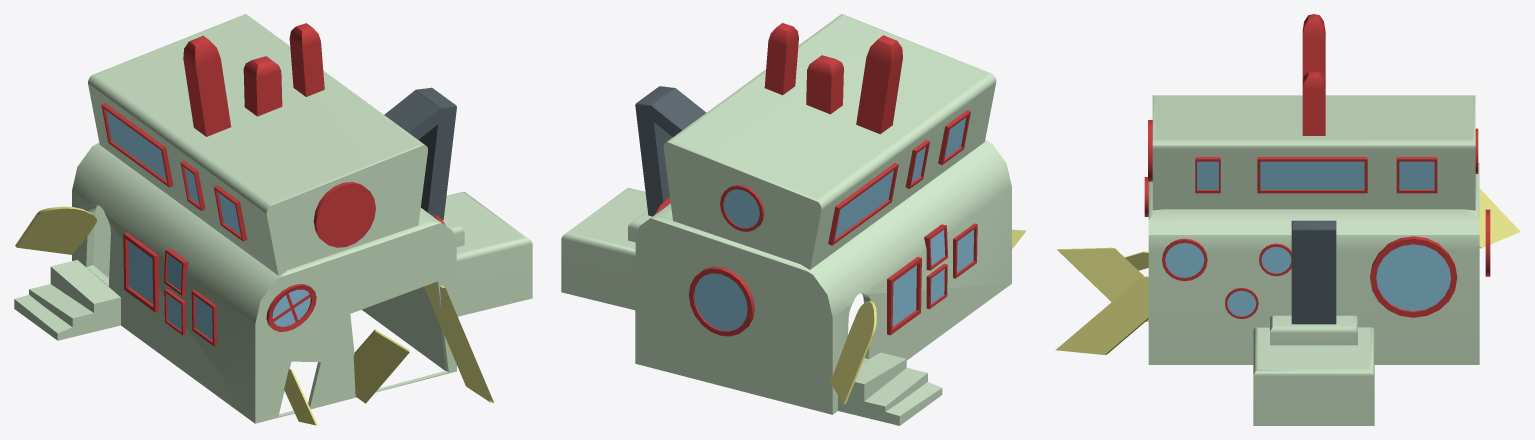
The model's file is slaughter_house.fbx.
3 views of the same model, side by side, from view 1: azimuth 30°, elevation 25°; view 2: azimuth 150°, elevation 25°; view 3: azimuth 270°, elevation 25° (orthographic). The views are drawn at different scales.
Visible parts, largest first — view 1: slaughter_house2_building_bottom5, building_top, rubbish_tank, stairs1, vent, chimney, logo, backdoor2, window_square4, garage_door_left, garage_door_right, window_square6 (+9 smaller); view 2: slaughter_house2_building_bottom5, building_top, rubbish_tank, stairs1, vent, window_circle, chimney, window_square4, backdoor2, window_square6, chimney2, chimney1 (+6 smaller); view 3: slaughter_house2_building_bottom5, building_top, rubbish_tank, window_circle5, vent, window_square2, garage_door_right, garage_door_left, vent_connector, window_circle2, window_square, chimney2 (+5 smaller).
Part boxes in pixels (x1=…): slaughter_house2_building_bottom5: x1=72, y1=142, x2=456, y2=423; building_top: x1=88, y1=14, x2=427, y2=275; rubbish_tank: x1=444, y1=191, x2=532, y2=316; stairs1: x1=14, y1=260, x2=120, y2=340; vent: x1=384, y1=87, x2=456, y2=220; chimney: x1=183, y1=35, x2=231, y2=136; logo: x1=313, y1=182, x2=375, y2=247; backdoor2: x1=15, y1=206, x2=96, y2=254; window_square4: x1=101, y1=103, x2=173, y2=187; garage_door_left: x1=353, y1=329, x2=409, y2=403; garage_door_right: x1=424, y1=282, x2=493, y2=402; window_square6: x1=123, y1=232, x2=158, y2=312; slaughter_house2_building_bottom5: x1=635, y1=140, x2=1011, y2=414; building_top: x1=663, y1=14, x2=996, y2=269; rubbish_tank: x1=561, y1=187, x2=647, y2=310; stairs1: x1=838, y1=352, x2=942, y2=425; vent: x1=635, y1=86, x2=706, y2=216; window_circle: x1=689, y1=266, x2=754, y2=336; chimney: x1=856, y1=35, x2=902, y2=134; window_square4: x1=828, y1=163, x2=898, y2=245; backdoor2: x1=829, y1=300, x2=876, y2=404; window_square6: x1=887, y1=257, x2=921, y2=335; chimney2: x1=764, y1=23, x2=798, y2=95; chimney1: x1=806, y1=55, x2=843, y2=114; slaughter_house2_building_bottom5: x1=1148, y1=163, x2=1479, y2=364; building_top: x1=1152, y1=95, x2=1475, y2=210; rubbish_tank: x1=1253, y1=327, x2=1374, y2=425; window_circle5: x1=1370, y1=236, x2=1457, y2=317; vent: x1=1291, y1=220, x2=1336, y2=324; window_square2: x1=1257, y1=157, x2=1367, y2=193; garage_door_right: x1=1055, y1=276, x2=1148, y2=354; garage_door_left: x1=1057, y1=247, x2=1148, y2=321; vent_connector: x1=1270, y1=315, x2=1357, y2=345; window_circle2: x1=1162, y1=238, x2=1207, y2=281; window_square: x1=1396, y1=157, x2=1437, y2=193; chimney2: x1=1302, y1=72, x2=1325, y2=135.
Size of the model in its own units: 19.88 by 14.79 by 22.27.
